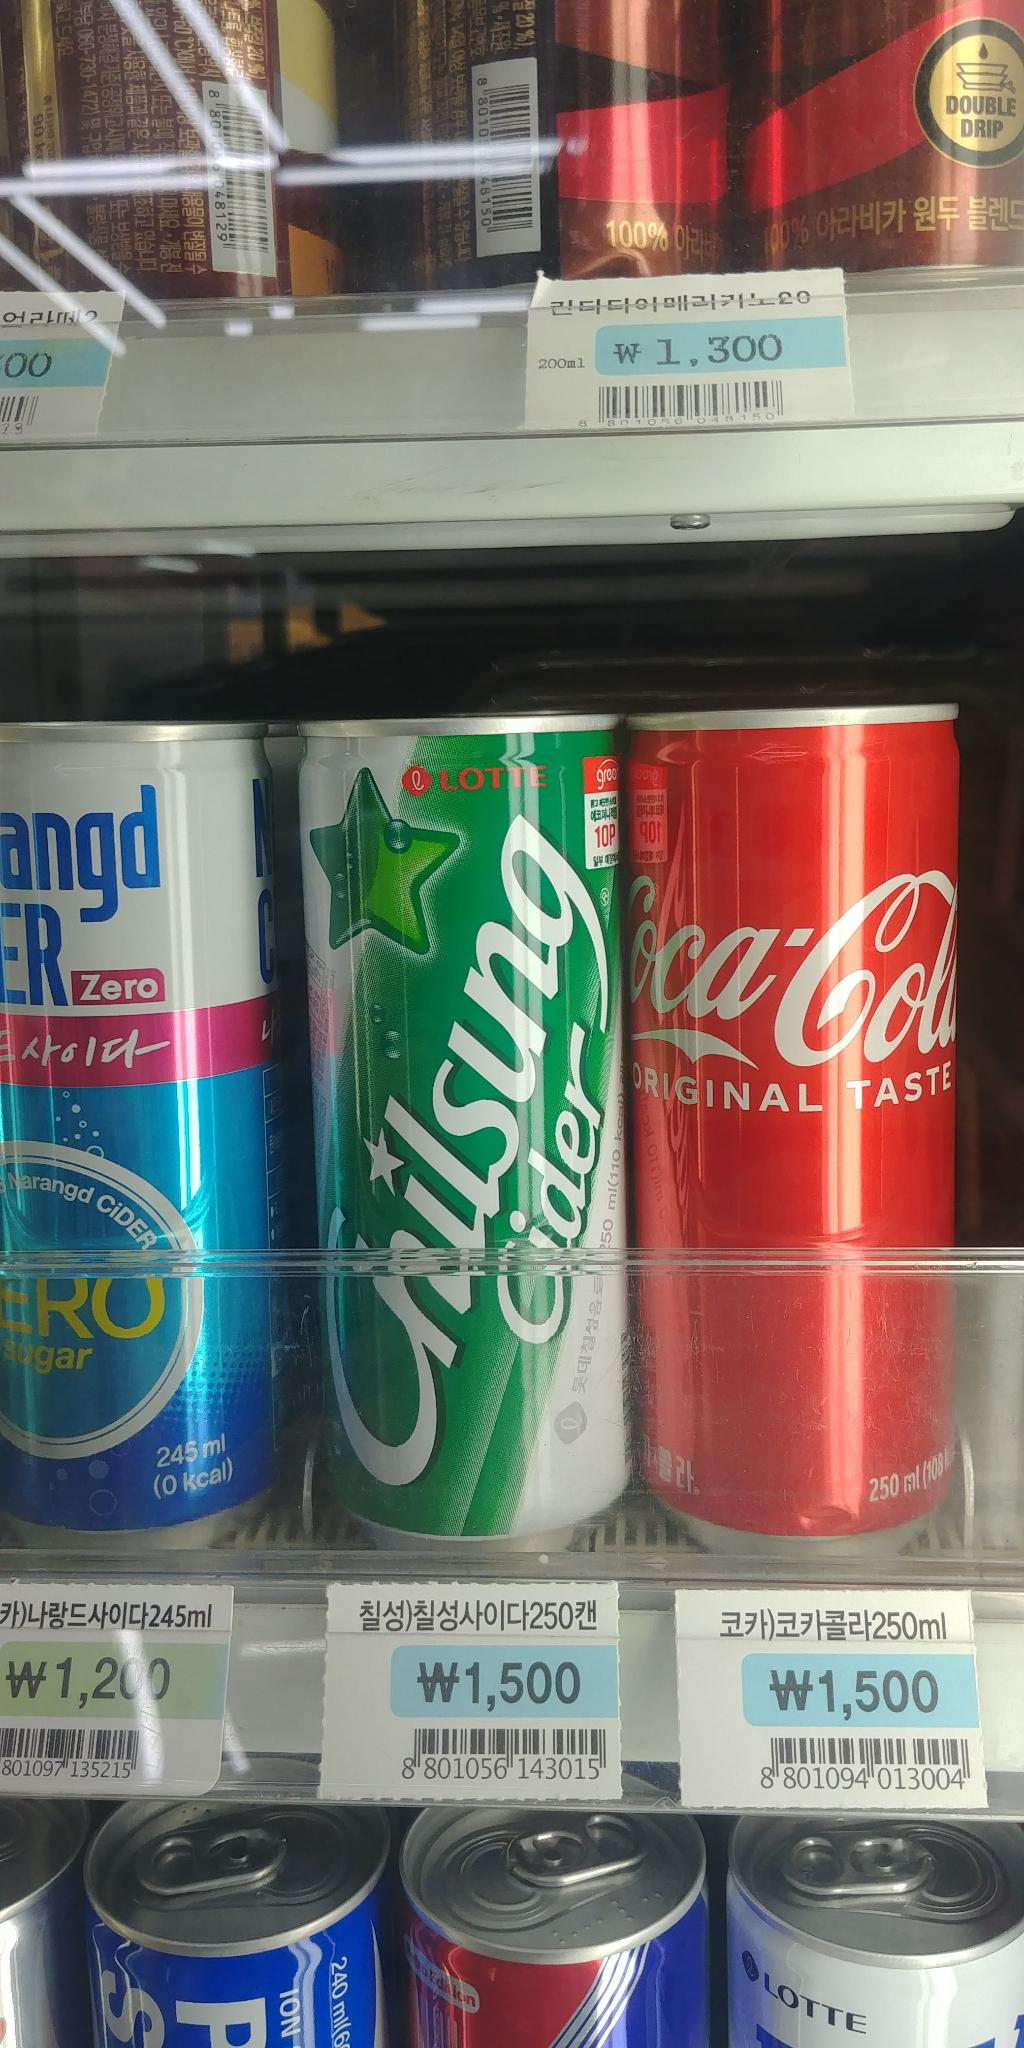narangdcider: (0, 709, 310, 1545)
